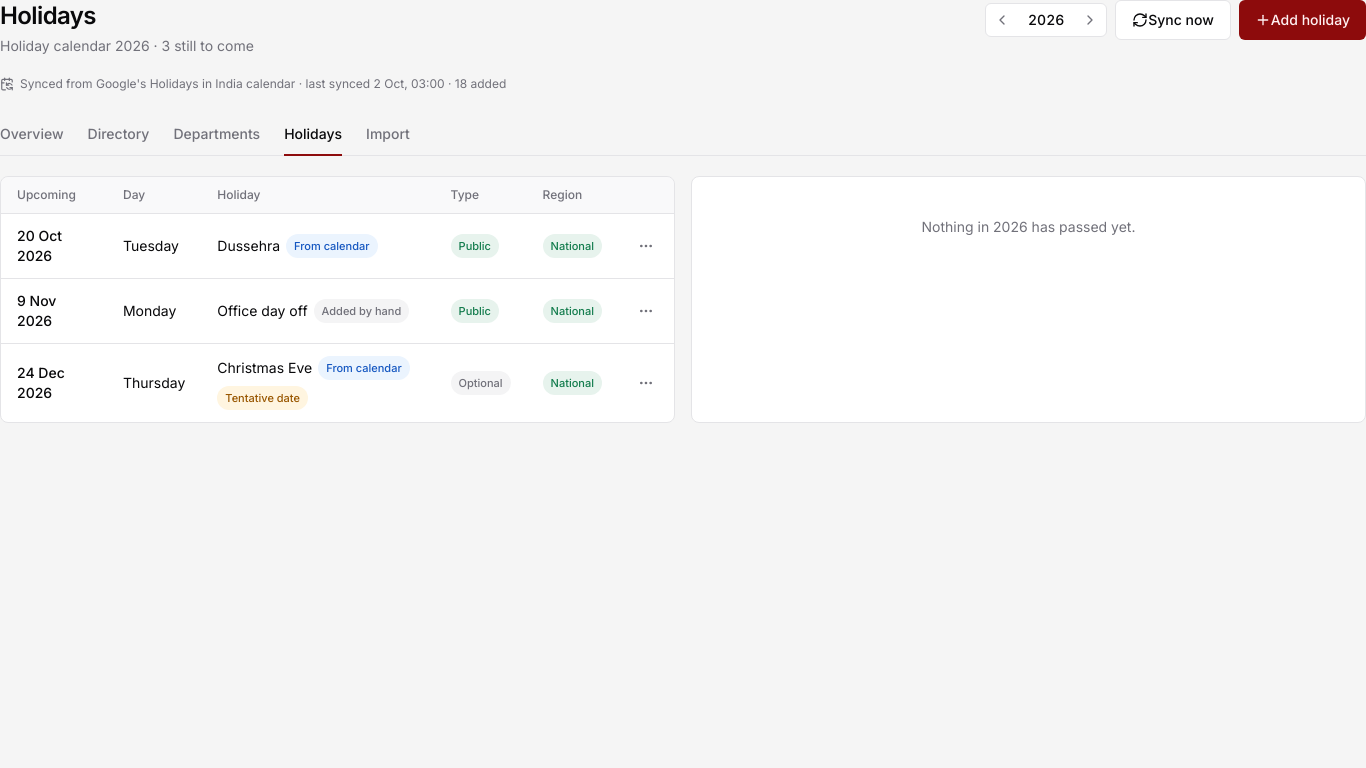
Scenario: the rows › deleting a calendar row says it won't come back at the next sync
This screenshot has width=1366, height=768.
Press the mouse on the button named "Actions for Dussehra": (646, 246) [634,234,658,258]
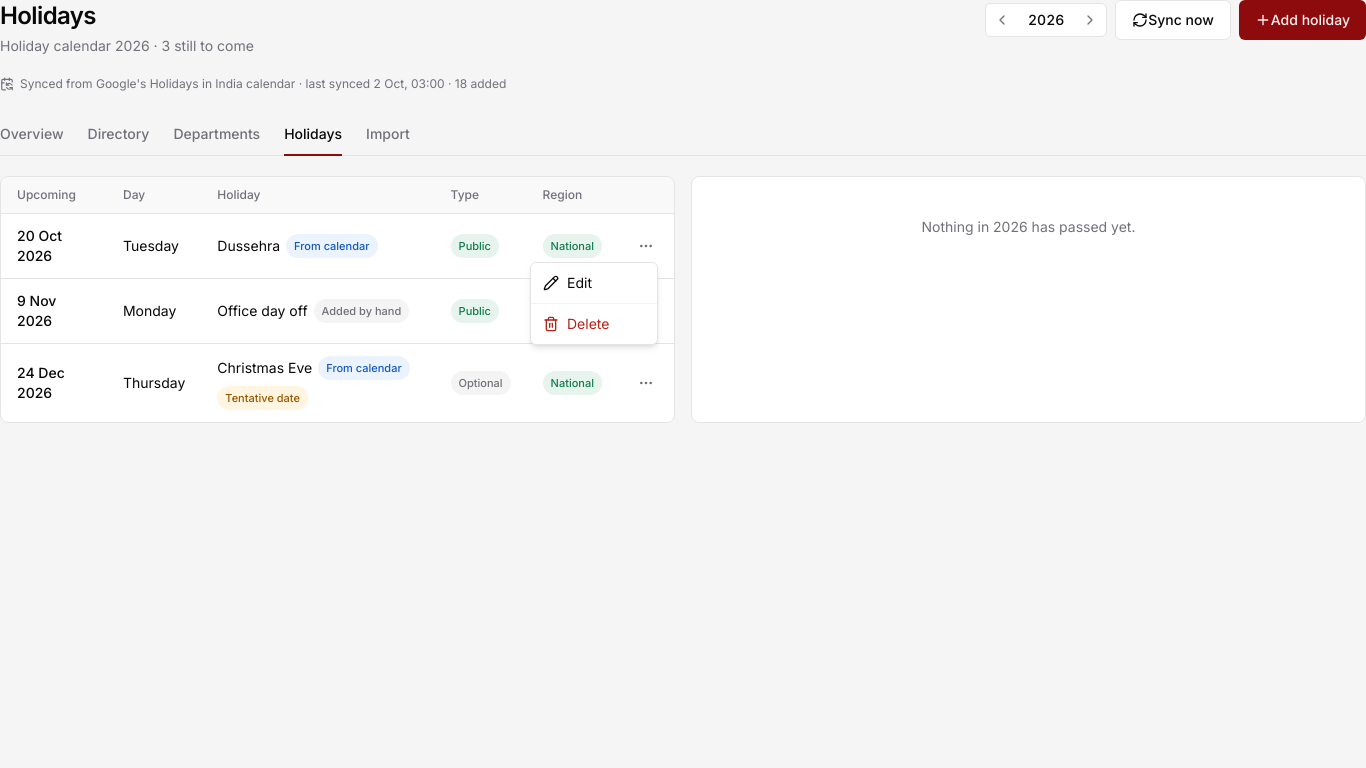
Click the menu item "Delete": (576, 324) [543,315,609,332]
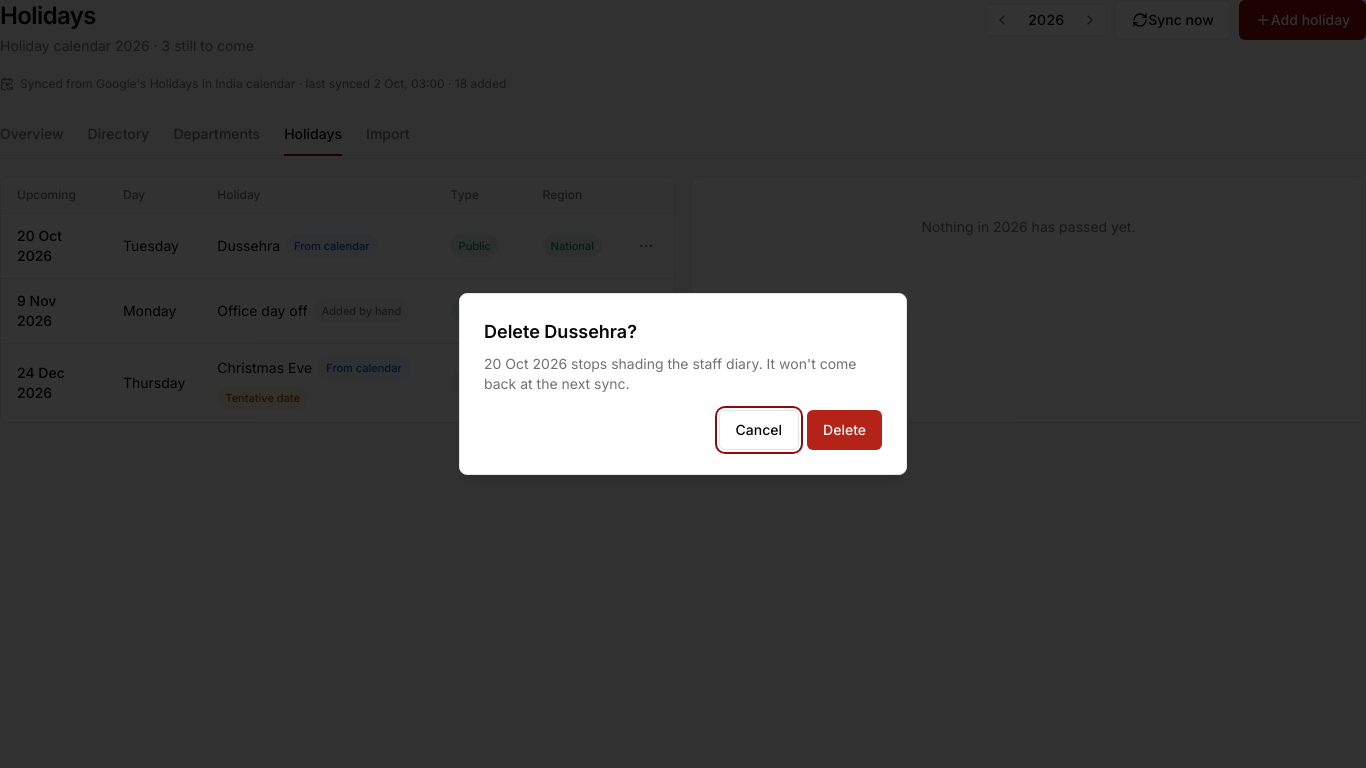
expect the text "It won't come back at the next sync." is shown: met, box [484,355,856,392]
